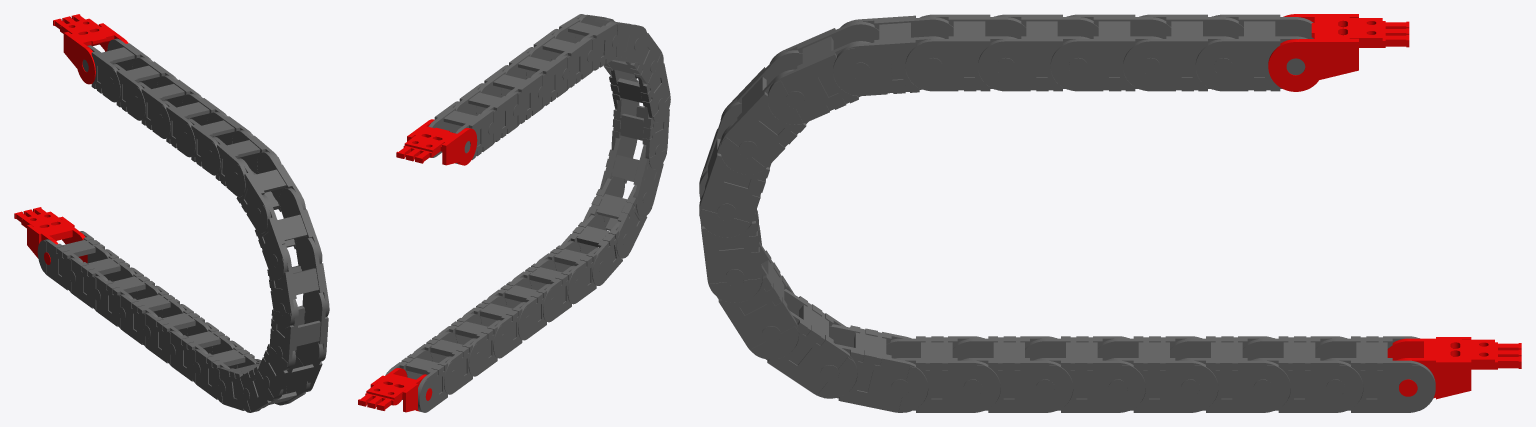
The model's file is EnergoChain-transformed.glb.
The picture shows the model from 3 angles, left to right: view 1: azimuth 30°, elevation 25°; view 2: azimuth 150°, elevation 25°; view 3: azimuth 270°, elevation 25°; orthographic projection. The views are drawn at different scales.
Visible parts, largest first — view 1: AP727515255, AP727515253; view 2: AP727515255, AP727515253; view 3: AP727515255, AP727515253.
Part boxes in pixels (x1,y1,x2,y2): AP727515255: (37,38,329,412); AP727515253: (14,14,128,264); AP727515255: (385,14,670,412); AP727515253: (358,119,477,412); AP727515255: (699,14,1435,412); AP727515253: (1268,14,1521,399).
Bounding box in the file's own units: 0.042 × 0.26 × 0.5216.
